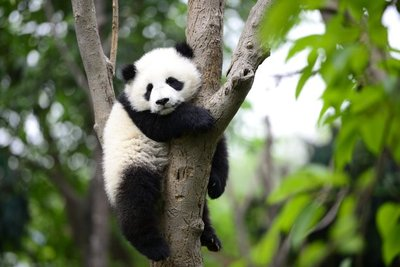panda: (94, 44, 239, 256)
